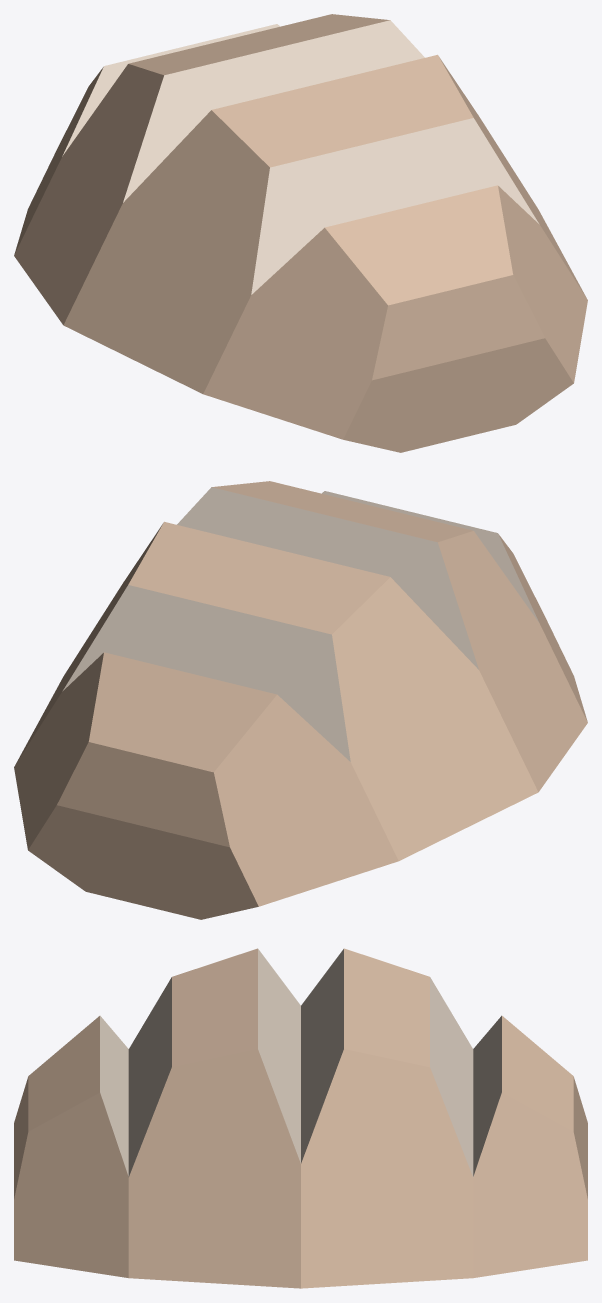
File: Bread.fbx
3 renders of one model, top to bottom at view 1: azimuth 30°, elevation 25°; view 2: azimuth 150°, elevation 25°; view 3: azimuth 270°, elevation 25°, orthographic. The views are drawn at different scales.
Parts seen in each view (by area): view 1: Bread; view 2: Bread; view 3: Bread.
Part boxes in pixels (x1,y1,x2,y2): Bread: (14,14,587,452); Bread: (14,481,587,919); Bread: (14,948,587,1288).
Size of the model in its own units: 0.1741 by 0.0905 by 0.2.
